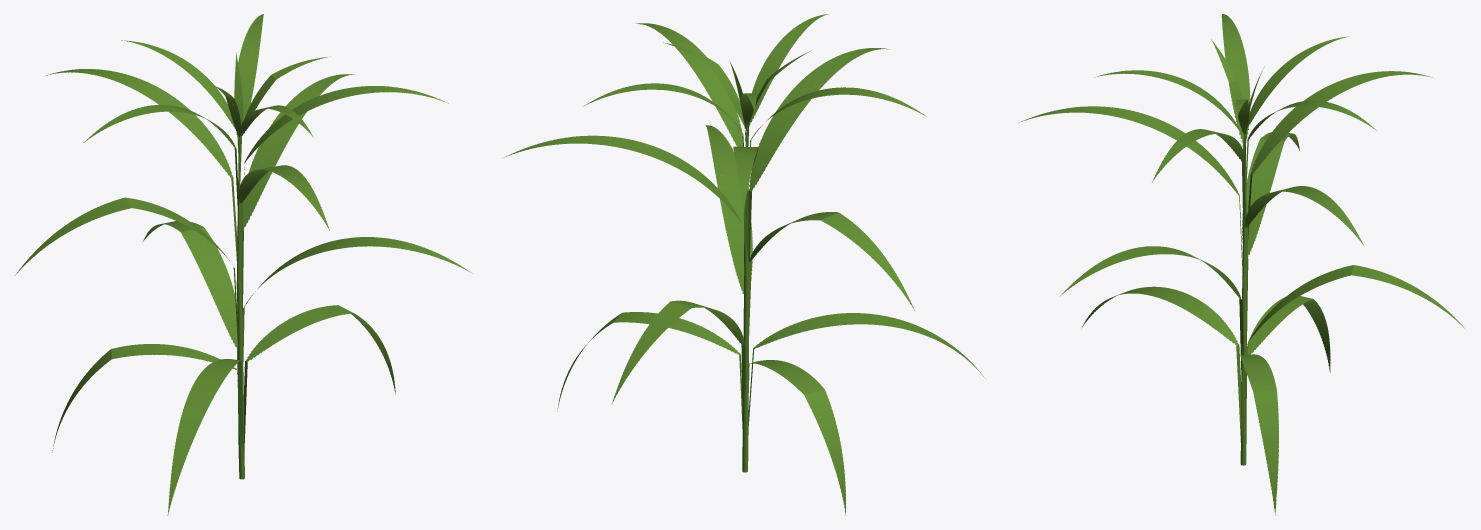
The model's file is maize_005_day_100.dae.
3 renders of one model, left to right at view 1: azimuth 30°, elevation 25°; view 2: azimuth 150°, elevation 25°; view 3: azimuth 270°, elevation 25°, orthographic. The views are drawn at different scales.
Visible parts, largest first — view 1: node; view 2: node; view 3: node.
Boxes of the visible parts, left/top/right/bottom form: node: left=15, top=14, right=472, bottom=515; node: left=502, top=14, right=985, bottom=515; node: left=1019, top=14, right=1464, bottom=515.
Size of the model in its own units: 1.48 by 1.57 by 1.59.
Materials: 1 (1 with a texture image).
